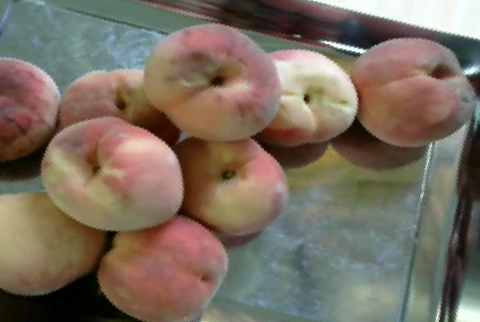Peach: (37, 115, 187, 233), (147, 21, 278, 140), (96, 214, 227, 321), (351, 38, 472, 146), (173, 132, 286, 237), (0, 187, 106, 295), (252, 49, 360, 150), (0, 55, 63, 163)
